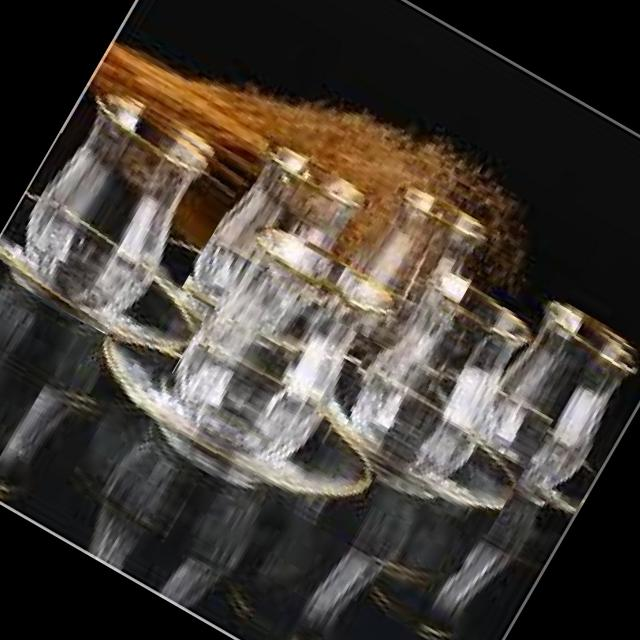Glass: (73, 180, 460, 543), (0, 73, 283, 374), (310, 253, 592, 538), (446, 288, 640, 523), (180, 134, 374, 350), (320, 176, 500, 370)
